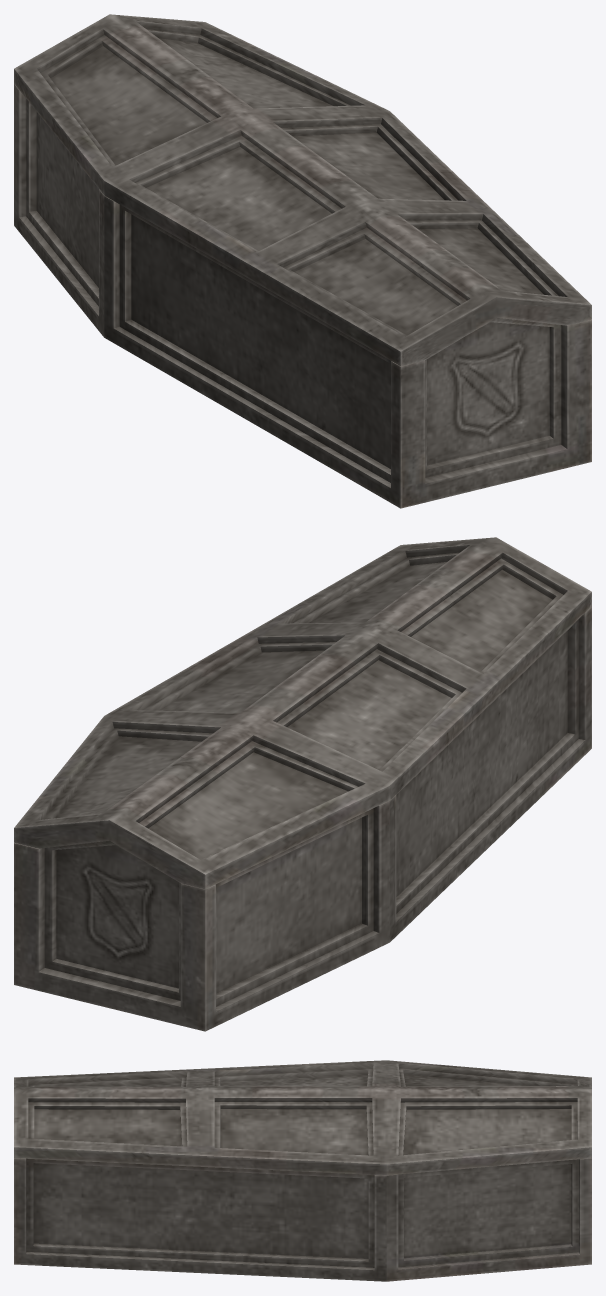
File: SM_Stone_Coffin.glb
3 views of the same model, one above another, from view 1: azimuth 30°, elevation 25°; view 2: azimuth 150°, elevation 25°; view 3: azimuth 270°, elevation 25° (orthographic). The views are drawn at different scales.
Parts seen in each view (by area): view 1: SM_Stone_Coffin; view 2: SM_Stone_Coffin; view 3: SM_Stone_Coffin.
Boxes of the visible parts, x1,y1,x2,y2 form: SM_Stone_Coffin: (14, 14, 591, 508); SM_Stone_Coffin: (14, 537, 591, 1031); SM_Stone_Coffin: (14, 1060, 591, 1281).
Size of the model in its own units: 0.8572 by 0.5387 by 2.01.
1 material, 1 textured.
